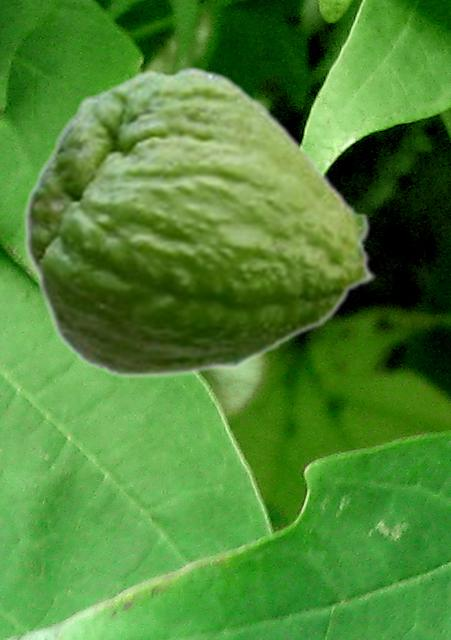sayote: (23, 65, 377, 379)
